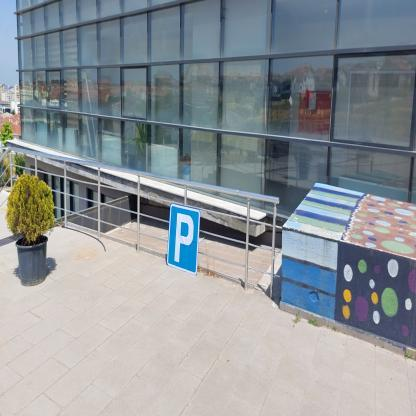parking: (166, 202, 201, 276)
